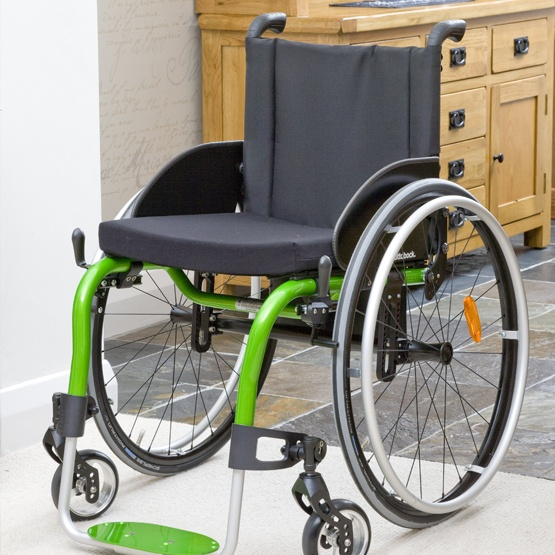wheelchair: (31, 153, 531, 552)
